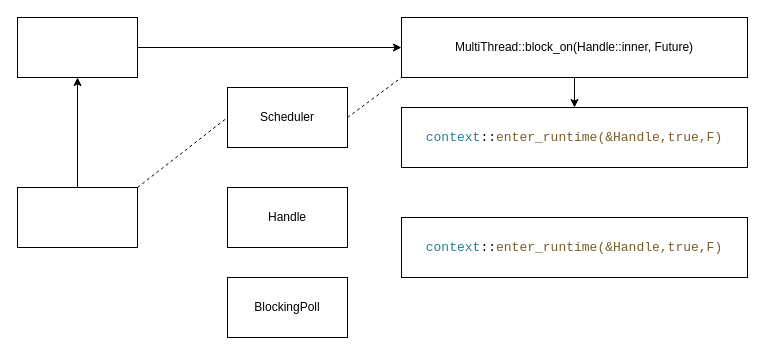
This 765x355 diagram has some shape labels left out. The box of each missing label's shape, as (x1, y1, x2, y2) in pixels:
block_on: (16, 16, 138, 78)
Runtime: (16, 186, 138, 248)
